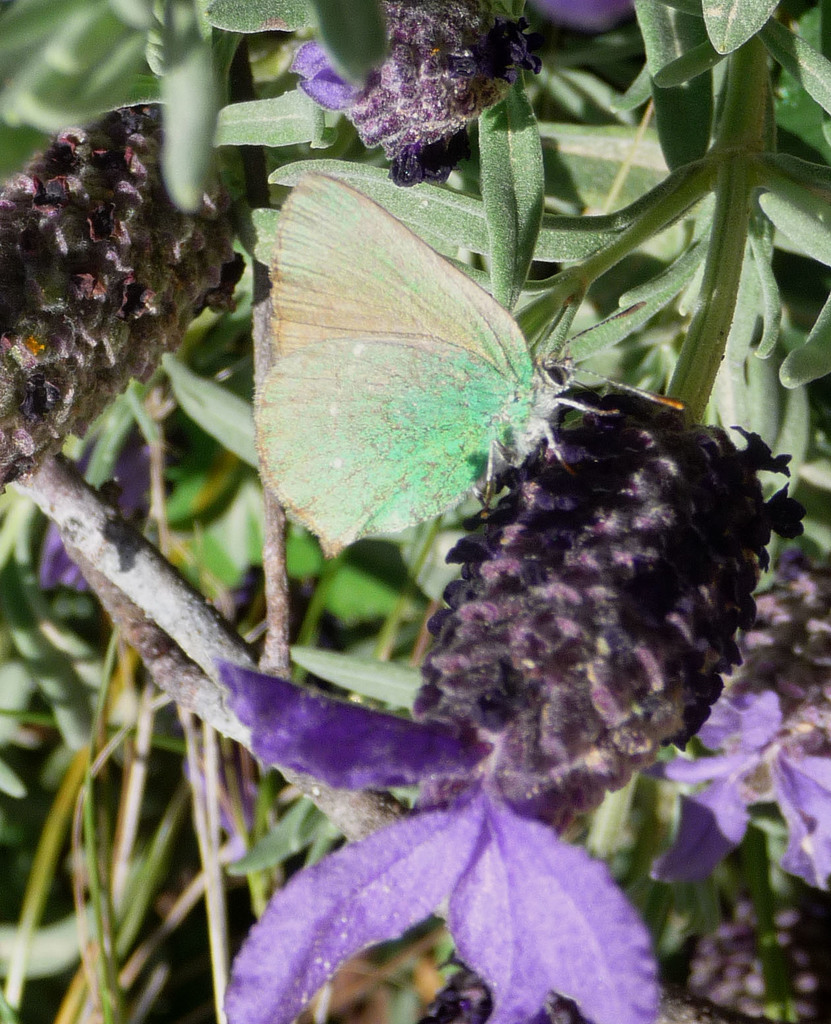Butterfly: (240, 152, 693, 591)
